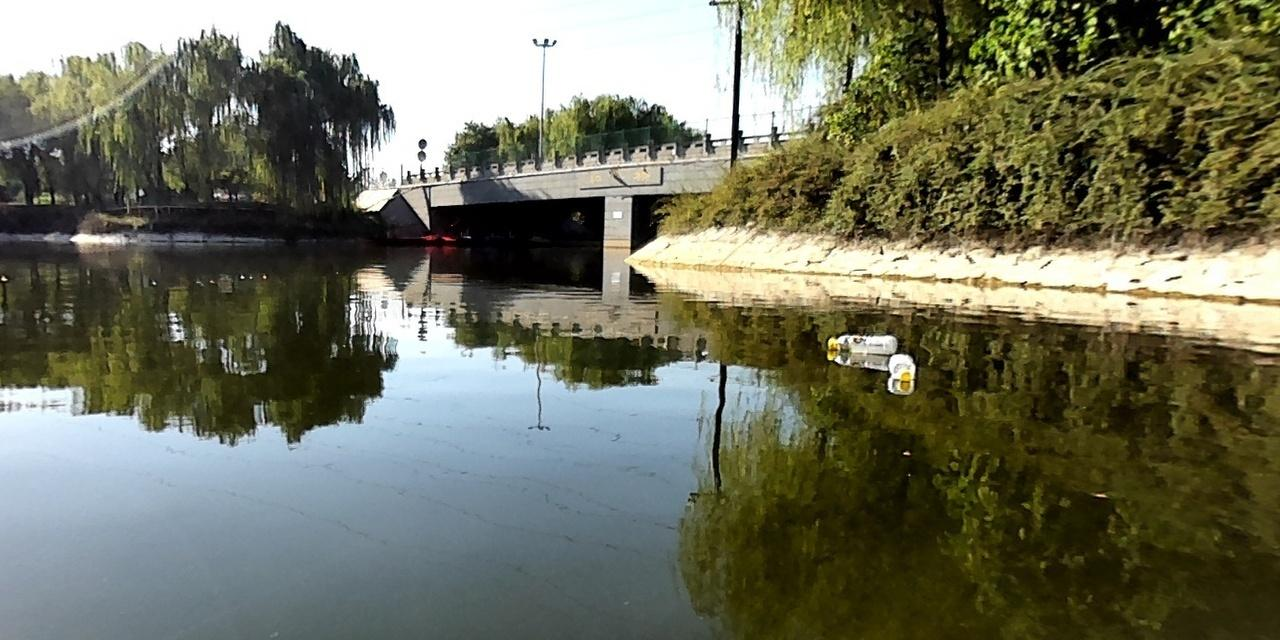bottle: (825, 332, 895, 352), (887, 352, 916, 382)
